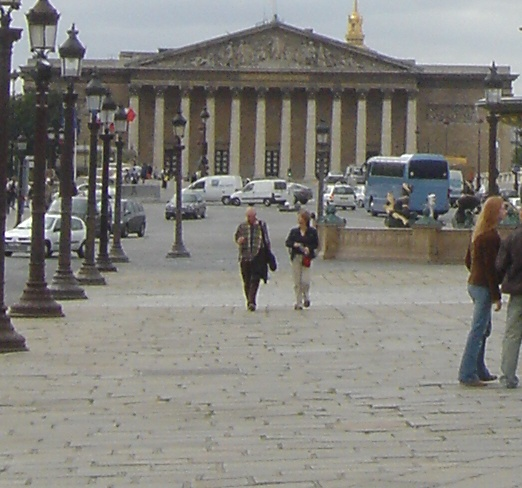person: (233, 204, 273, 308), (283, 210, 322, 310)
